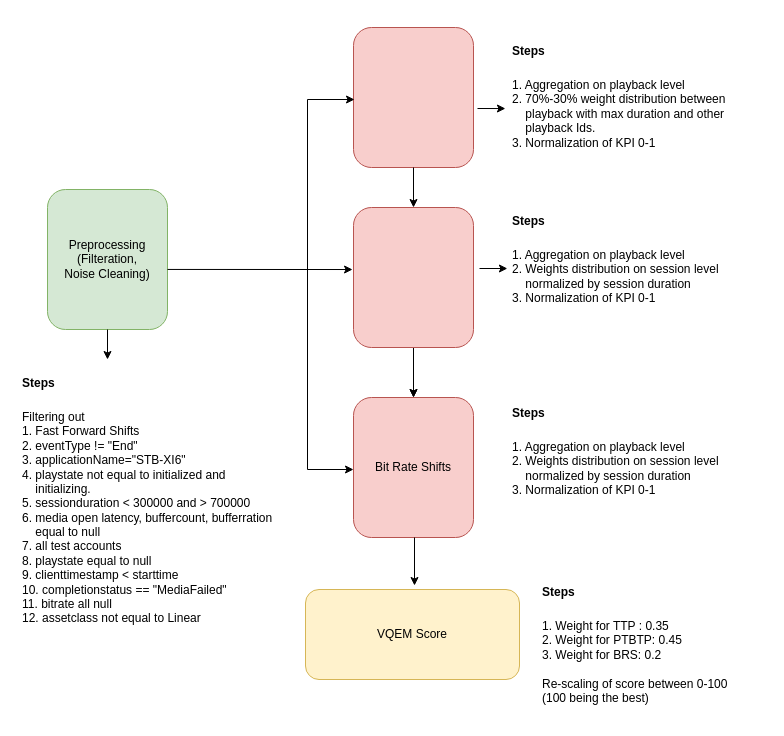
The diagram is 784 pixels wide and 736 high, and some of its shapes have lost their labels. Here are the shapes that lost their labels. From the top down, the centre of each, then its label:
At point 413,97: "Time To Top Profile".
At point 413,277: "Percentage of Time Below Top Profile".
